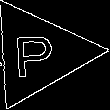P_N: (16, 27, 61, 79)
